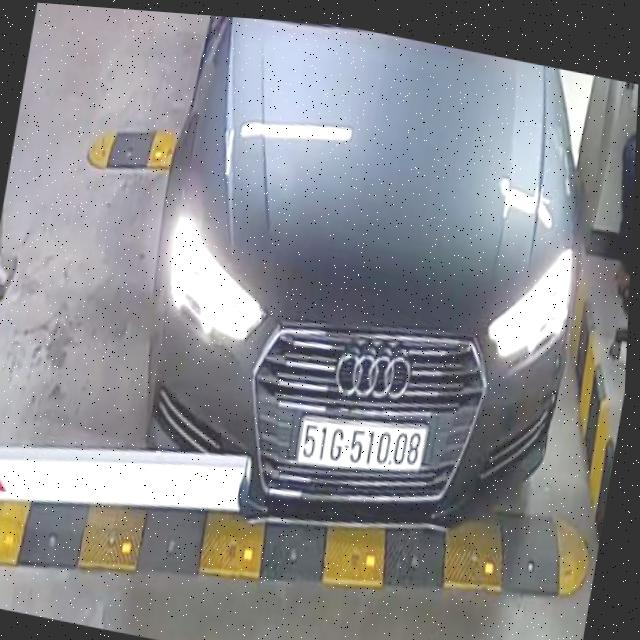car: (103, 9, 623, 576)
plate: (293, 406, 429, 487)
